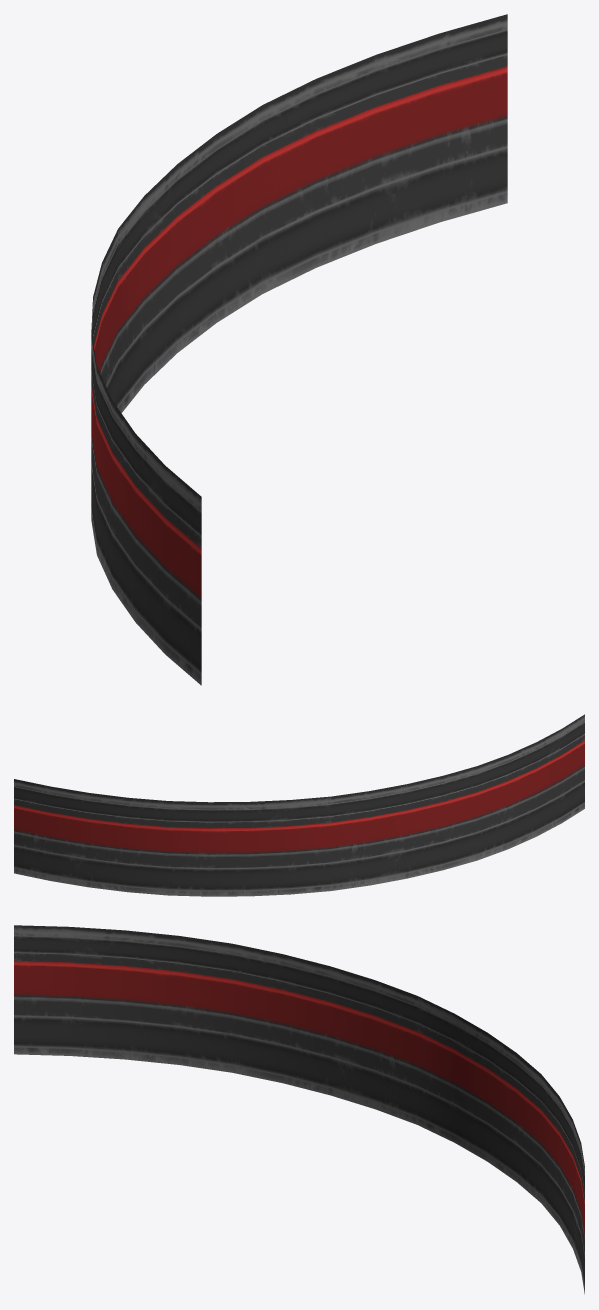
The model's file is S_ShortWallAccentStripCornerInner.gltf.
3 views of the same model, one above another, from view 1: azimuth 30°, elevation 25°; view 2: azimuth 150°, elevation 25°; view 3: azimuth 270°, elevation 25° (orthographic). The views are drawn at different scales.
Visible parts, largest first — view 1: Plane_294-col; view 2: Plane_294-col; view 3: Plane_294-col.
Part boxes in pixels (x1=…): Plane_294-col: x1=91, y1=14, x2=507, y2=685; Plane_294-col: x1=14, y1=714, x2=584, y2=896; Plane_294-col: x1=14, y1=925, x2=584, y2=1294.
Size of the model in its own units: 4 by 0.9981 by 4.
Materials: 1 (1 with a texture image).
